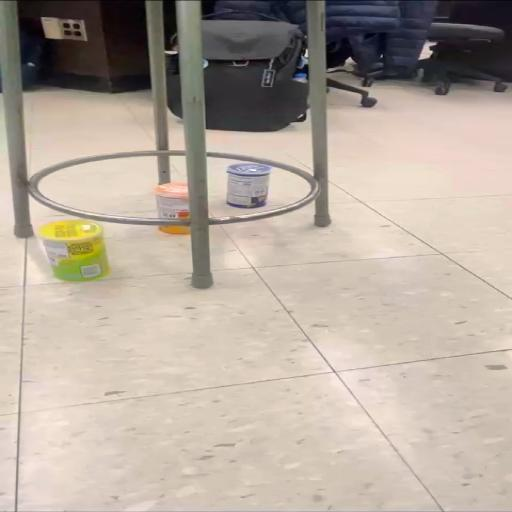pringle can: (43, 220, 112, 282), (226, 161, 270, 208), (152, 183, 194, 219)
